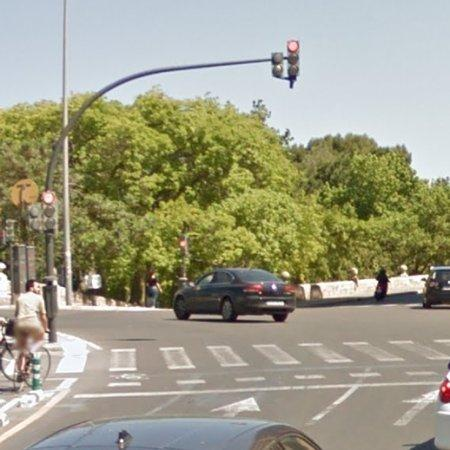crosswalks: (40, 337, 450, 376)
